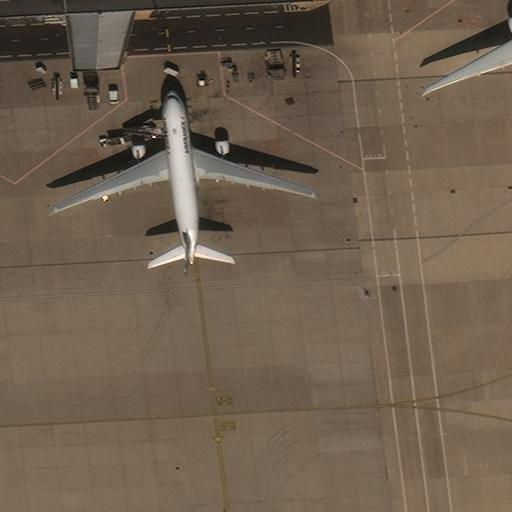Large Civil Transport: (52, 89, 313, 264), (426, 0, 511, 133)
